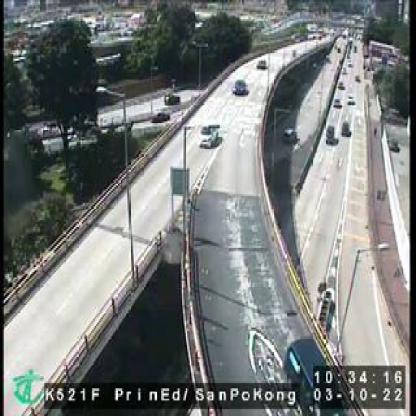Car: (277, 335, 339, 414), (199, 123, 218, 147), (232, 80, 245, 94)
